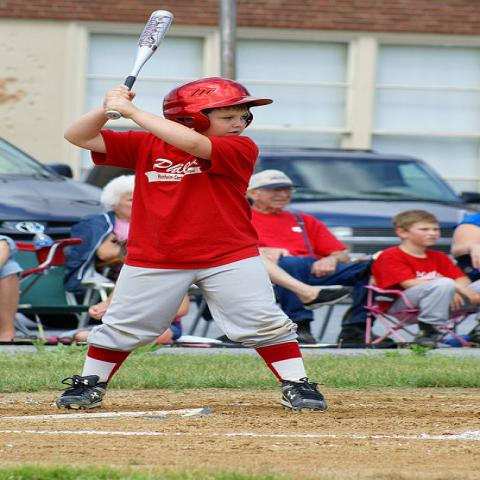car: (248, 146, 479, 262), (0, 137, 107, 239)
